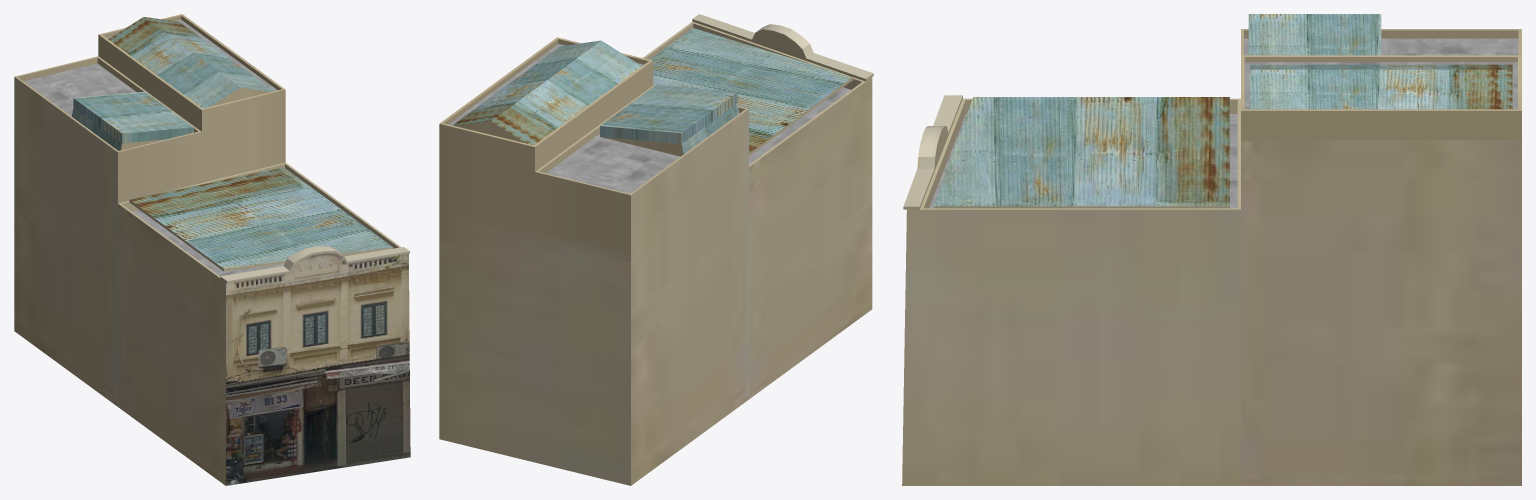
3 renders of one model, left to right at view 1: azimuth 30°, elevation 25°; view 2: azimuth 150°, elevation 25°; view 3: azimuth 270°, elevation 25°, orthographic. The views are drawn at different scales.
Parts seen in each view (by area): view 1: HN997___BI_33__BEER_BABA___So_33_Ta_Hien; view 2: HN997___BI_33__BEER_BABA___So_33_Ta_Hien; view 3: HN997___BI_33__BEER_BABA___So_33_Ta_Hien.
Boxes of the visible parts, <box> form: HN997___BI_33__BEER_BABA___So_33_Ta_Hien: <box>14,14,410,485</box>; HN997___BI_33__BEER_BABA___So_33_Ta_Hien: <box>439,14,873,485</box>; HN997___BI_33__BEER_BABA___So_33_Ta_Hien: <box>902,14,1521,485</box>.
Size of the model in its own units: 6.51 by 10.61 by 15.33.
1 material, 1 textured.
